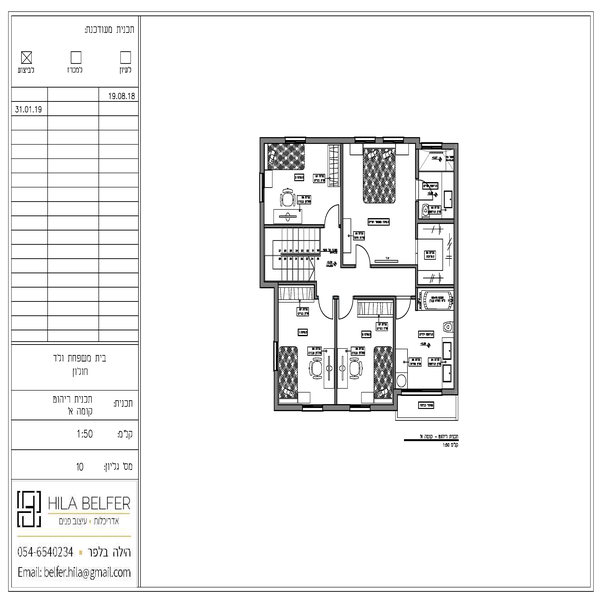door: (391, 288, 417, 335), (347, 232, 377, 272), (308, 287, 334, 324), (334, 287, 360, 323), (413, 170, 437, 201), (317, 202, 338, 222)
wall: (452, 141, 463, 392), (256, 136, 269, 285), (334, 138, 348, 268), (329, 292, 341, 399), (270, 278, 285, 341), (261, 219, 324, 232), (391, 291, 398, 392), (303, 134, 357, 146), (356, 290, 396, 306), (262, 277, 314, 289), (371, 398, 400, 414), (269, 368, 279, 413), (325, 401, 348, 414), (376, 264, 416, 271)
window: (399, 385, 443, 396), (351, 128, 375, 146), (270, 341, 285, 366), (282, 134, 306, 148), (419, 138, 442, 152), (379, 136, 407, 146)
